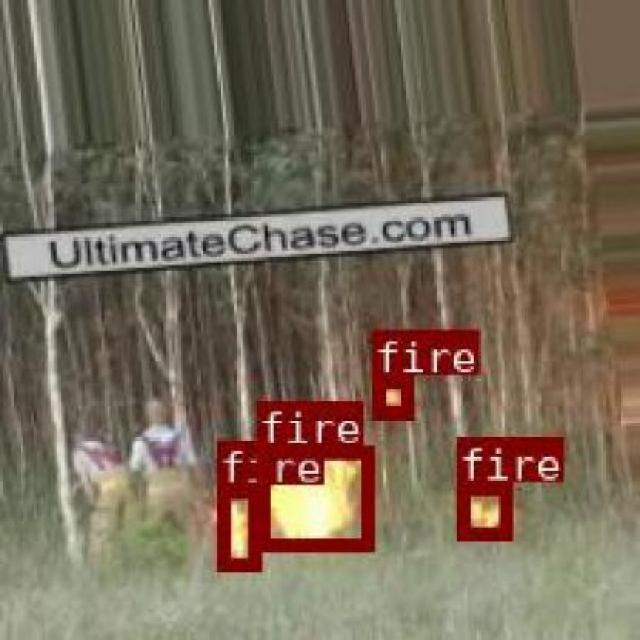Fire: (255, 444, 372, 548), (215, 484, 258, 570), (456, 480, 509, 538), (372, 372, 412, 416)
